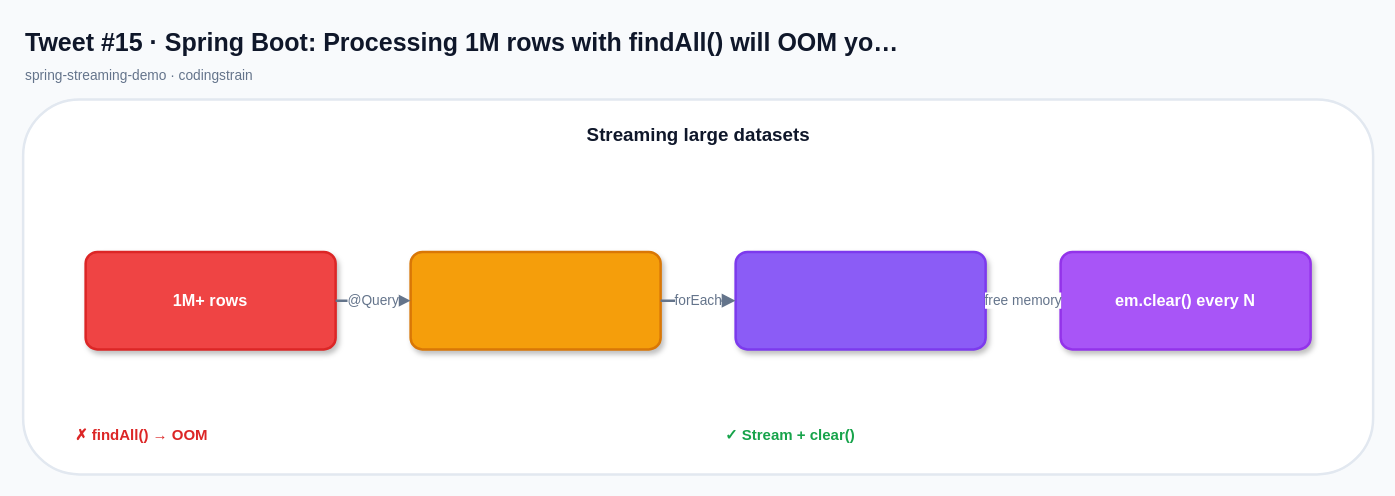
Some shapes in this 1395 by 496 pixel diagram are drawn without their labels. The shapes that lost their labels are listed below. From the top down, each one's centre as x and y in pixels, then its label:
At point 536,302: "Stream<User>".
At point 861,302: "process()".
